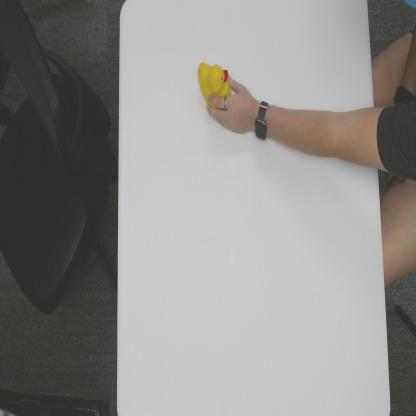Arm: (270, 103, 377, 166)
Duck: (196, 58, 232, 108)
Hand: (207, 73, 254, 135)
